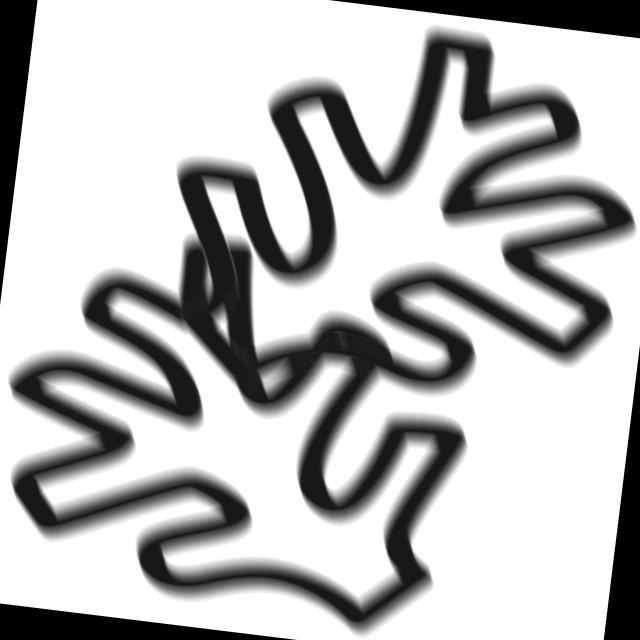coral: (137, 1, 640, 443), (1, 198, 495, 640)
